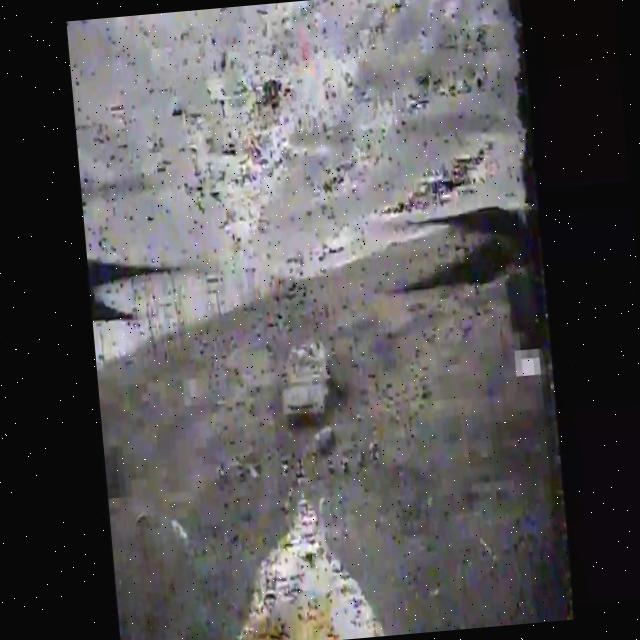APC: (280, 340, 335, 429)
